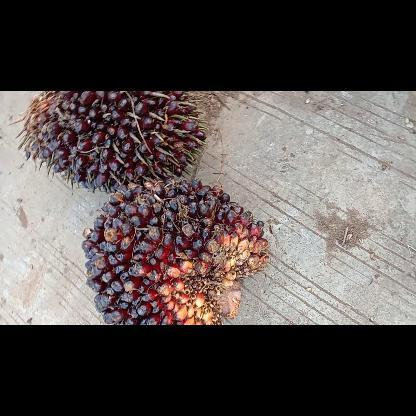TBS mentah: (82, 180, 268, 324), (13, 91, 206, 191)
